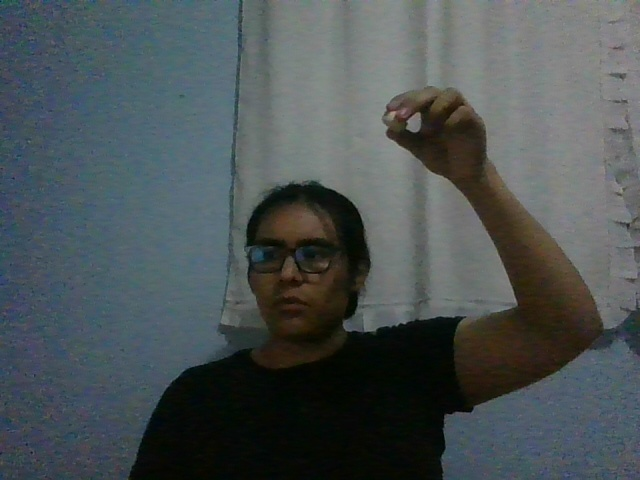goma: (381, 111, 408, 132)
